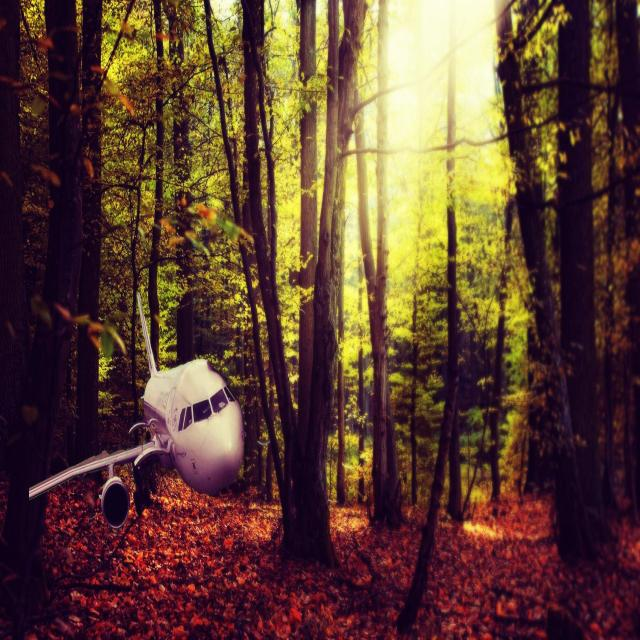airplane: (28, 290, 246, 530)
